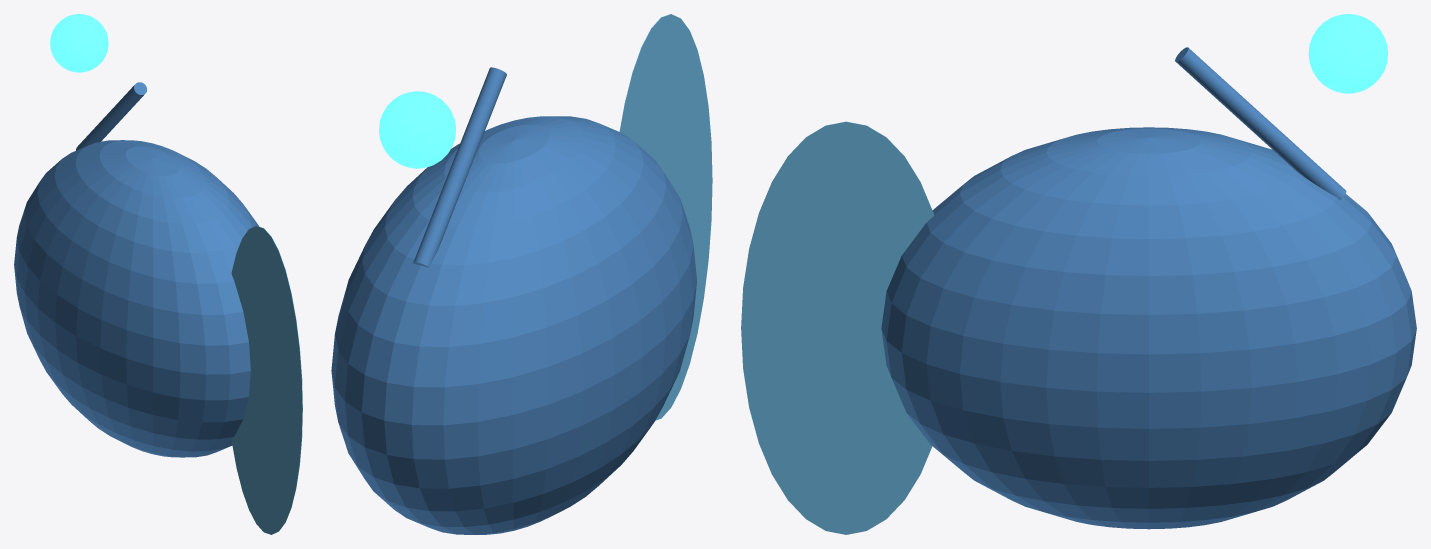
The model's file is carnivore.glb.
3 views of the same model, side by side, from view 1: azimuth 30°, elevation 25°; view 2: azimuth 150°, elevation 25°; view 3: azimuth 270°, elevation 25° (orthographic). The views are drawn at different scales.
Parts seen in each view (by area): view 1: Carnivore_Body, Cylinder, Lure_Bulb, Lure_Stalk; view 2: Carnivore_Body, Cylinder, Lure_Bulb, Lure_Stalk; view 3: Carnivore_Body, Cylinder, Lure_Bulb, Lure_Stalk.
Part boxes in pixels (x1,y1,x2,y2): Carnivore_Body: (14,140,259,457); Cylinder: (231,225,302,534); Lure_Bulb: (50,14,108,72); Lure_Stalk: (76,82,147,150); Carnivore_Body: (331,116,696,534); Cylinder: (619,14,712,420); Lure_Bulb: (379,91,455,168); Lure_Stalk: (413,67,506,267); Carnivore_Body: (881,127,1416,529); Cylinder: (741,121,934,534); Lure_Bulb: (1308,14,1388,93); Lure_Stalk: (1175,47,1346,200).
Size of the model in its own units: 1.92 by 3.58 by 4.24.
